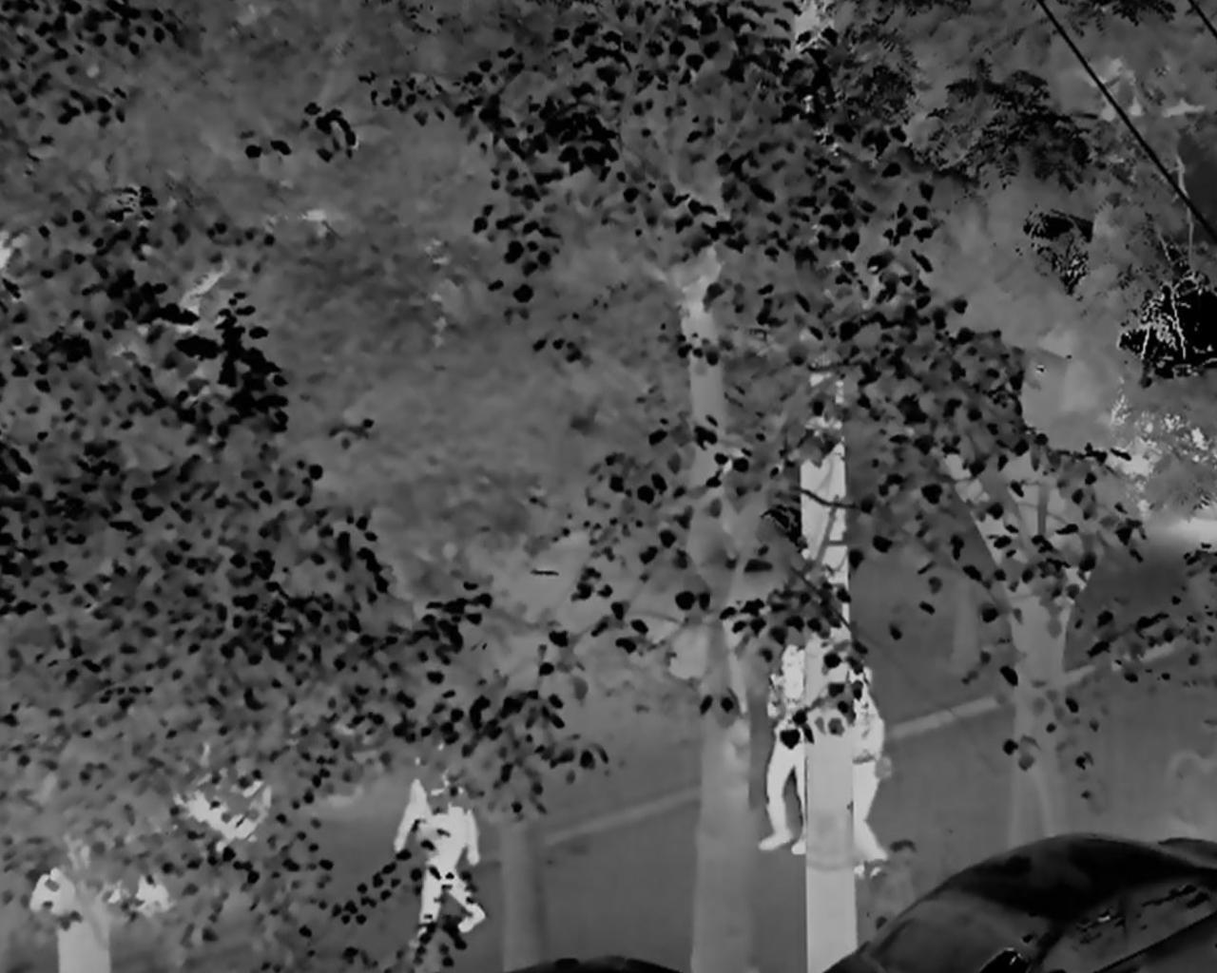person: (395, 742, 491, 943), (844, 663, 904, 887), (755, 635, 811, 853)
